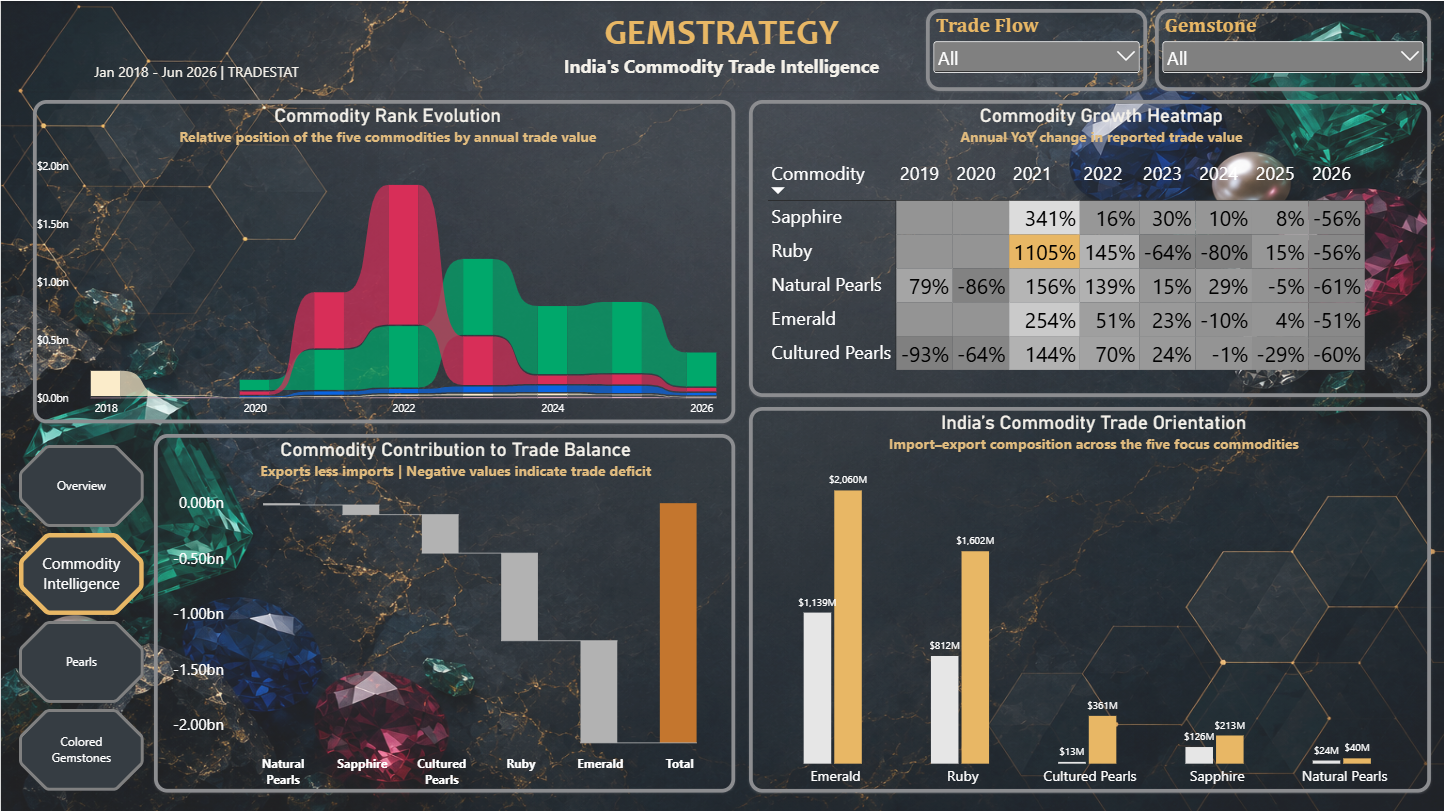

The page's visual inventory and layout, read from the dashboard file:
{"tool":"powerbi","page":{"name":"Commodity Intelligence","canvas":[1920,1080],"ordinal":1},"visuals":[{"type":"textbox","box":[14.6,10.6,1887.3,109.1],"z":0},{"type":"textbox","box":[75.8,81.1,368.4,38.6],"z":1000},{"type":"clusteredColumnChart","title":"India’s Commodity Trade Orientation","fields":{"Category":["Dim_HS_Code.commodity_name"],"Y":["Measure.Trade Value (Total Rows)"],"Series":["Fact_Trade.trade_flow_key"]},"box":[995,576.3,907.5,477.1],"z":2000},{"type":"pageNavigator","box":[23.9,590.5,166.3,462.9],"z":3000},{"type":"pivotTable","title":"Commodity Growth Heatmap","fields":{"Rows":["Dim_HS_Code.commodity_name"],"Columns":["Dim_Date.year"],"Values":["Measure.Commodity YoY Growth %"]},"box":[995,131.3,907.5,428.9],"z":4000},{"type":"waterfallChart","title":"Commodity Contribution to Trade Balance","fields":{"Category":["Dim_HS_Code.commodity_name"],"Y":["Measure.Commodity Trade Balance"]},"box":[203.5,575.9,772.8,477.5],"z":5000},{"type":"ribbonChart","title":"Commodity Rank Evolution","fields":{"Category":["Dim_Date.year"],"Y":["Measure.Trade Value (Total Rows)"],"Series":["Dim_HS_Code.commodity_name"]},"box":[42.6,131.7,933.7,429.6],"z":6000},{"type":"slicer","fields":{"Values":["Dim_HS_Code.commodity_name"]},"box":[1534.9,10.6,367.1,109.1],"z":7000},{"type":"slicer","fields":{"Values":["Fact_Trade.trade_flow_key"]},"box":[1230.3,10.6,293.9,109.1],"z":8000}]}

Visuals, with their boxes in screenshot pixels (x1, y1, x2, y2), scaled from the page's 1920x1080 canvas onto the 1444x811 screenshot:
textbox: [x1=11, y1=8, x2=1430, y2=90]
textbox: [x1=57, y1=61, x2=334, y2=90]
"India’s Commodity Trade Orientation" clusteredColumnChart: [x1=748, y1=433, x2=1431, y2=791]
pageNavigator: [x1=18, y1=443, x2=143, y2=791]
"Commodity Growth Heatmap" pivotTable: [x1=748, y1=99, x2=1431, y2=421]
"Commodity Contribution to Trade Balance" waterfallChart: [x1=153, y1=432, x2=734, y2=791]
"Commodity Rank Evolution" ribbonChart: [x1=32, y1=99, x2=734, y2=421]
slicer - Dim_HS_Code.commodity_name: [x1=1154, y1=8, x2=1430, y2=90]
slicer - Fact_Trade.trade_flow_key: [x1=925, y1=8, x2=1146, y2=90]
